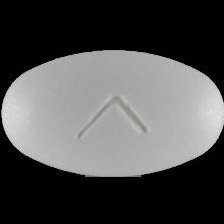63010-027: (0, 0, 224, 224)
